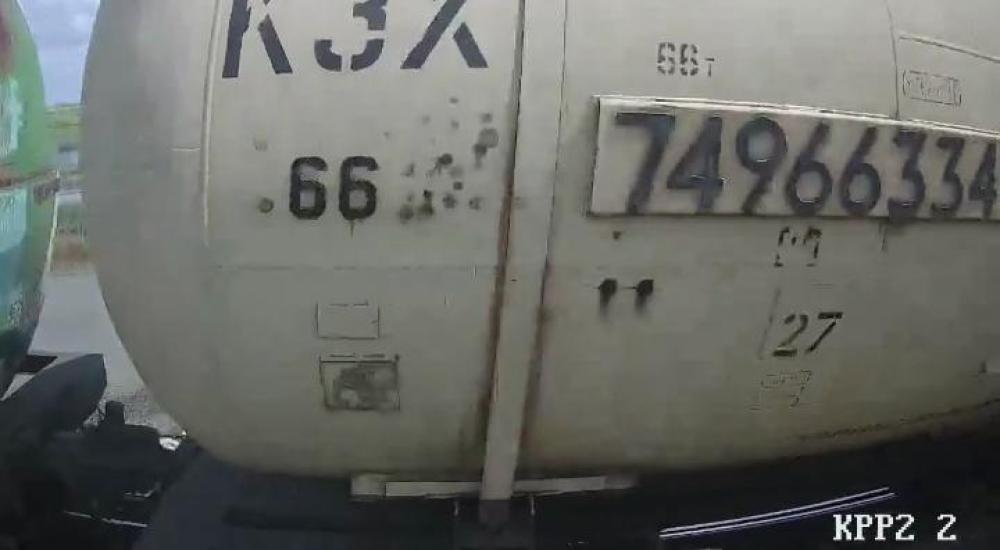Wagon-number: (609, 102, 1000, 224)
